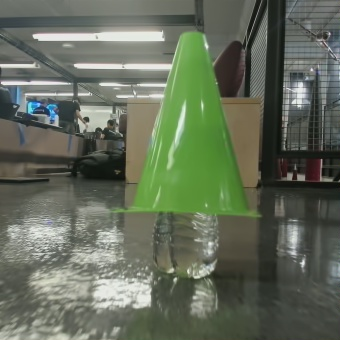Cone: (135, 28, 252, 209)
